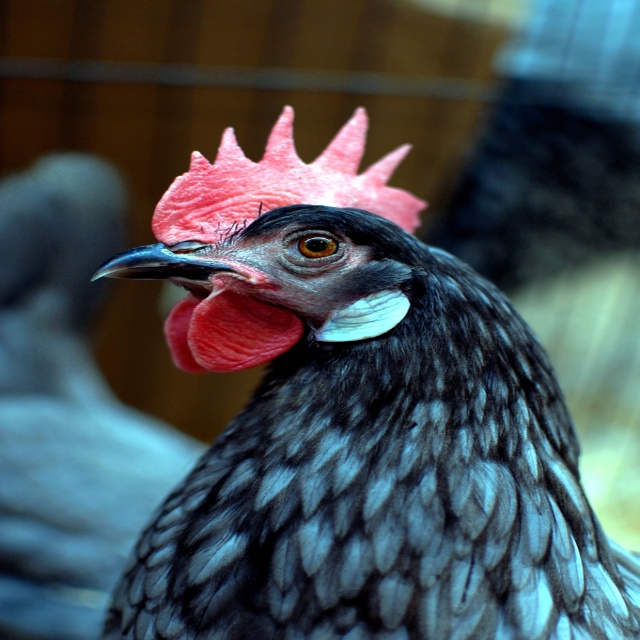Chicken: (74, 139, 639, 640)
